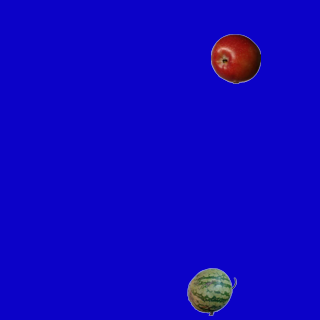Apple Braeburn: (210, 33, 260, 83)
Watermelon: (186, 266, 236, 316)
